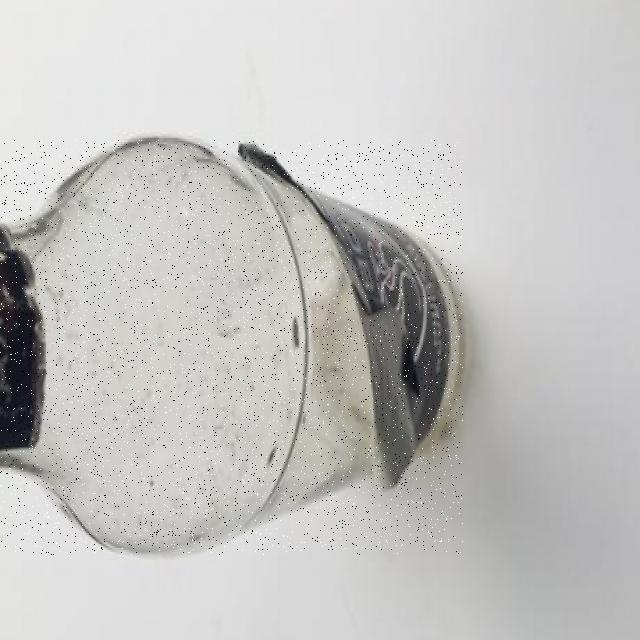glass: (0, 140, 463, 554)
